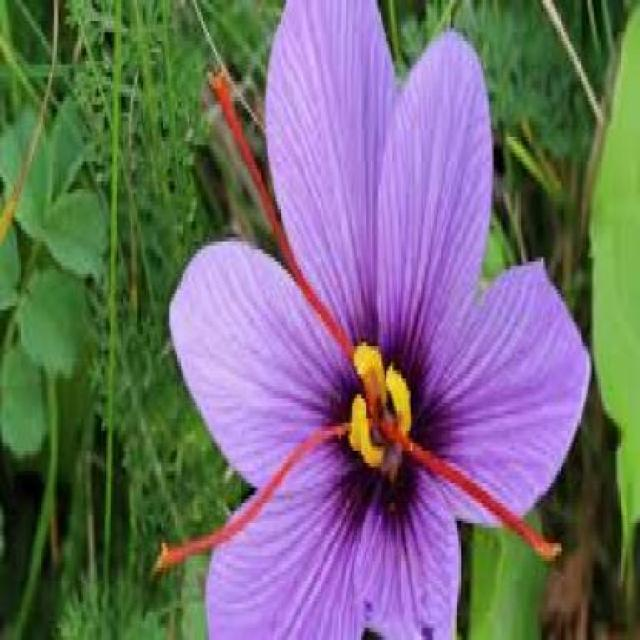Flower: (166, 0, 592, 640)
stigma: (205, 73, 354, 351), (157, 415, 344, 572), (384, 424, 557, 564)
